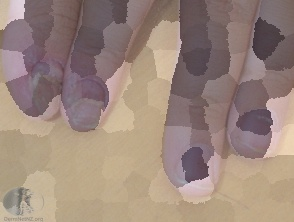Nail_psoriasis: (12, 45, 72, 122), (230, 97, 289, 164), (58, 68, 116, 135), (169, 132, 227, 199)
